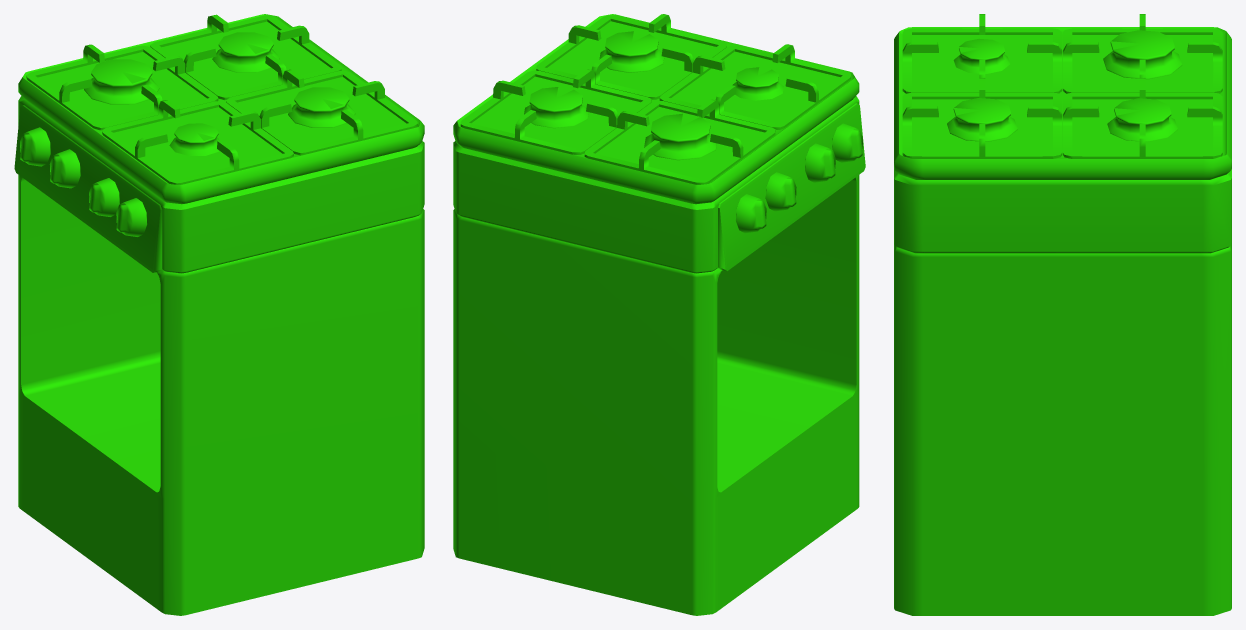
File: Gas_Stove_01_Lod2.fbx
3 views of the same model, side by side, from view 1: azimuth 30°, elevation 25°; view 2: azimuth 150°, elevation 25°; view 3: azimuth 270°, elevation 25° (orthographic). The views are drawn at different scales.
Visible parts, largest first — view 1: Gas_Stove_01_Lod2; view 2: Gas_Stove_01_Lod2; view 3: Gas_Stove_01_Lod2.
Part boxes in pixels (x1=…): Gas_Stove_01_Lod2: x1=14, y1=14, x2=424, y2=615; Gas_Stove_01_Lod2: x1=453, y1=14, x2=865, y2=615; Gas_Stove_01_Lod2: x1=894, y1=14, x2=1231, y2=615.
Size of the model in its own units: 62.83 by 93.72 by 60.66.
